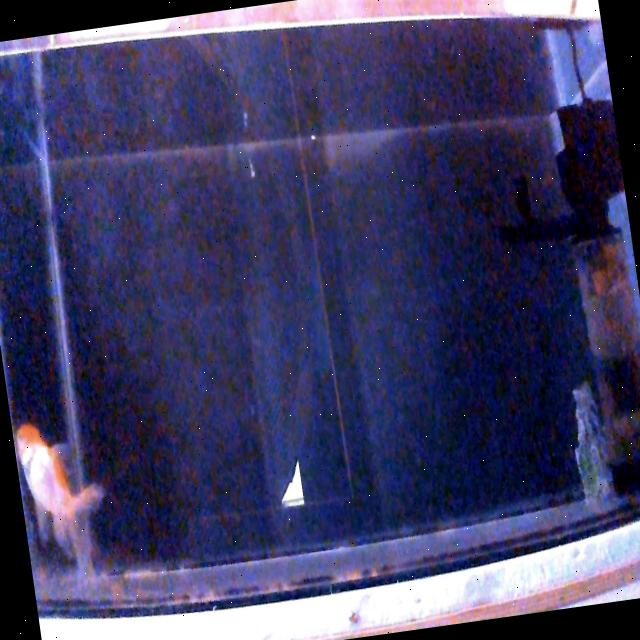fish: (14, 414, 114, 576)
